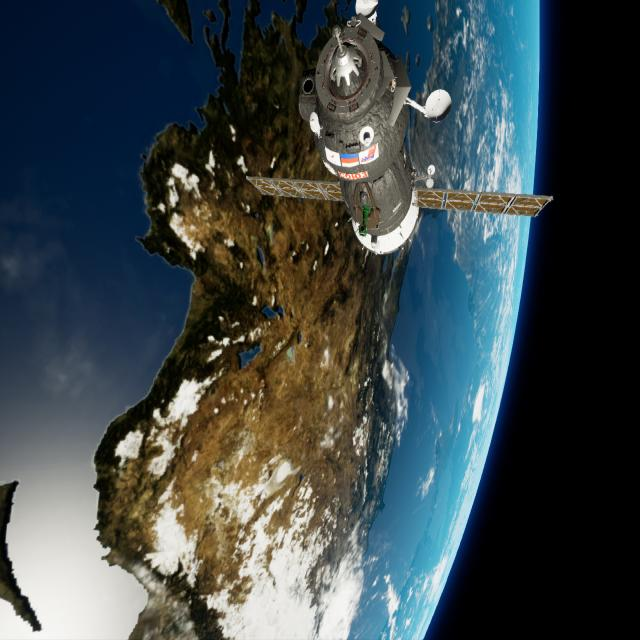Satellites revolving around earth: (91, 2, 549, 638), (244, 6, 554, 258)
